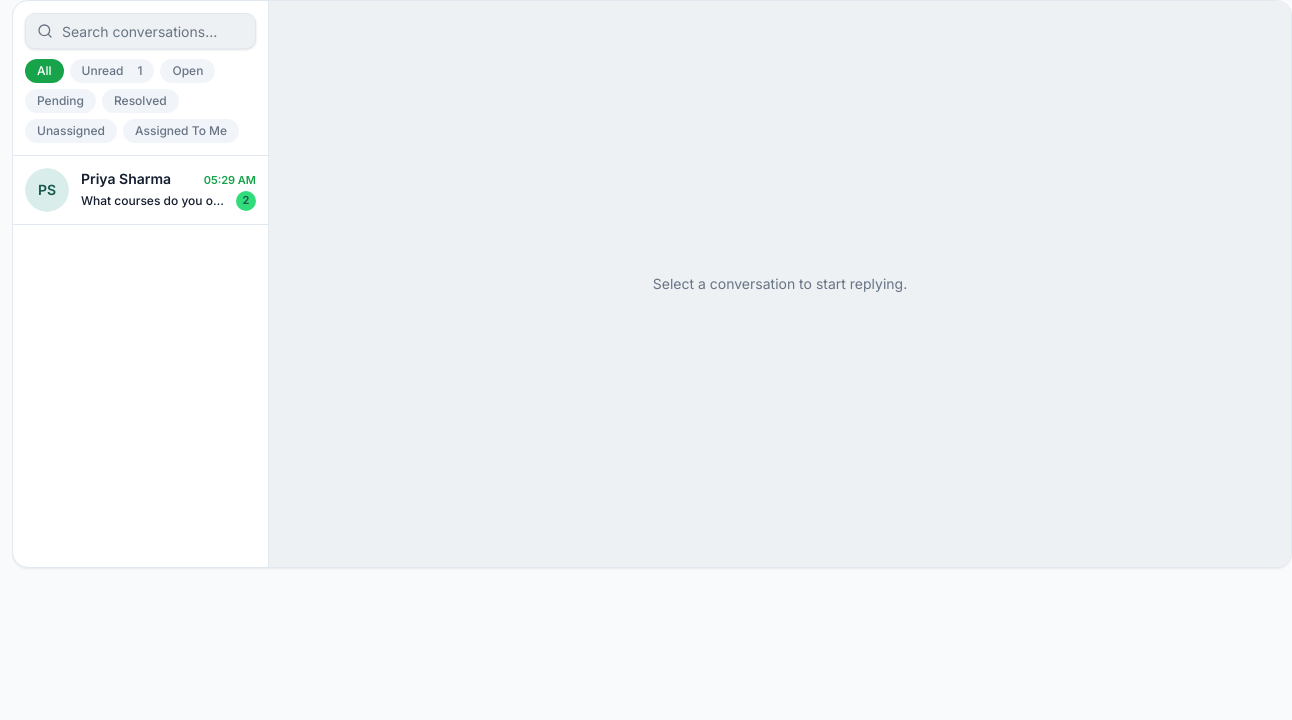
it: Team inbox › lists conversations with preview and unread count, and opens a chat
Click the button "PS Priya Sharma 05:29 AM What courses do you offer? 2".
click(140, 190)  # box x1=13 y1=156 x2=268 y2=225
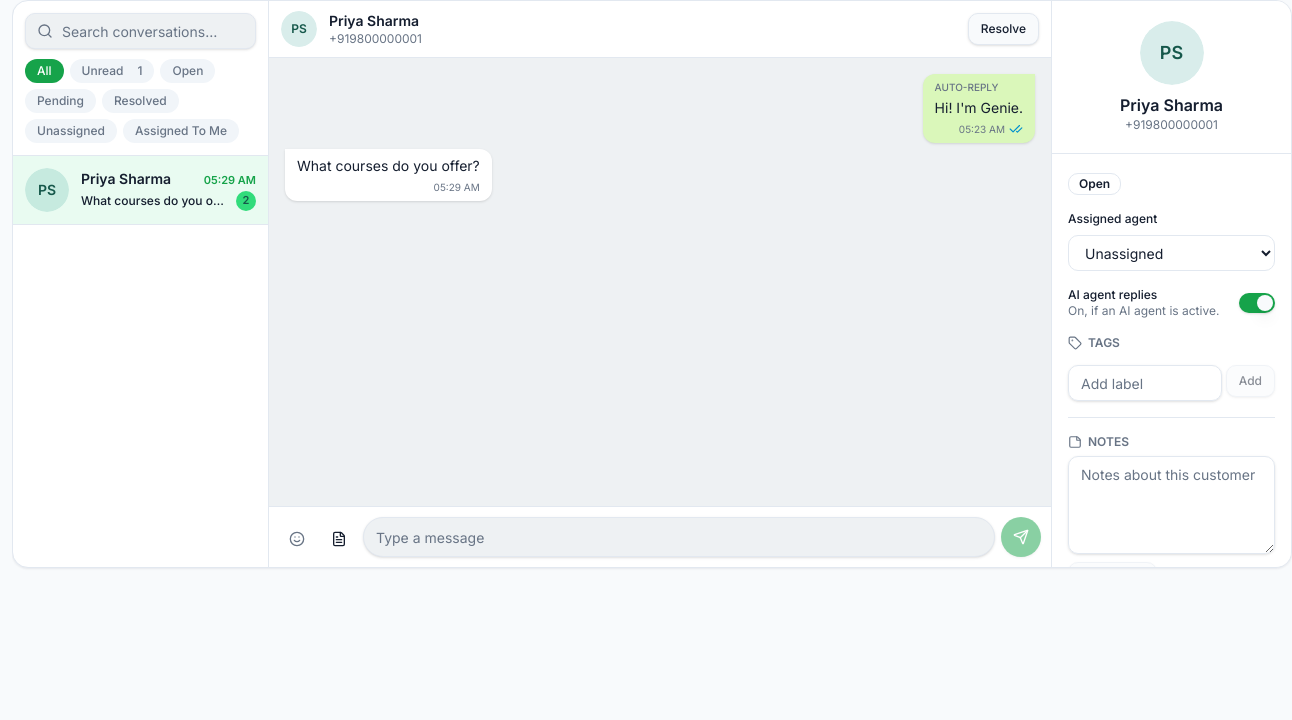
Expected: the text "What courses do you offer?" is shown 2 times, x1=81 y1=193 x2=228 y2=209; x1=297 y1=155 x2=480 y2=178
Result: the text "Hi! I'm Genie." is shown at x1=935 y1=97 x2=1023 y2=120
Result: the text "Auto-reply" is shown at x1=935 y1=81 x2=998 y2=93
